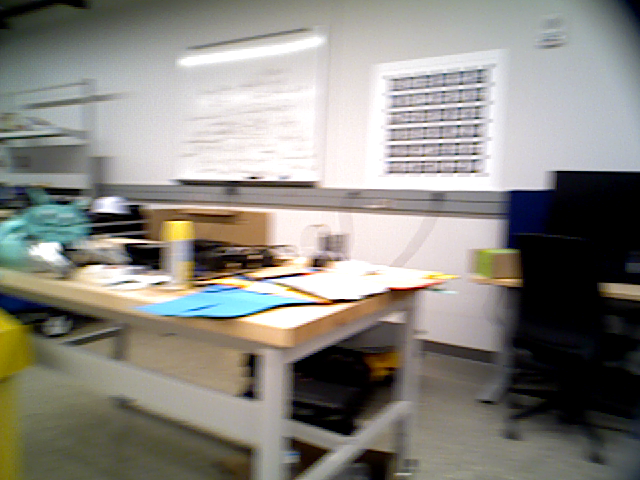painting4: (367, 48, 503, 185)
